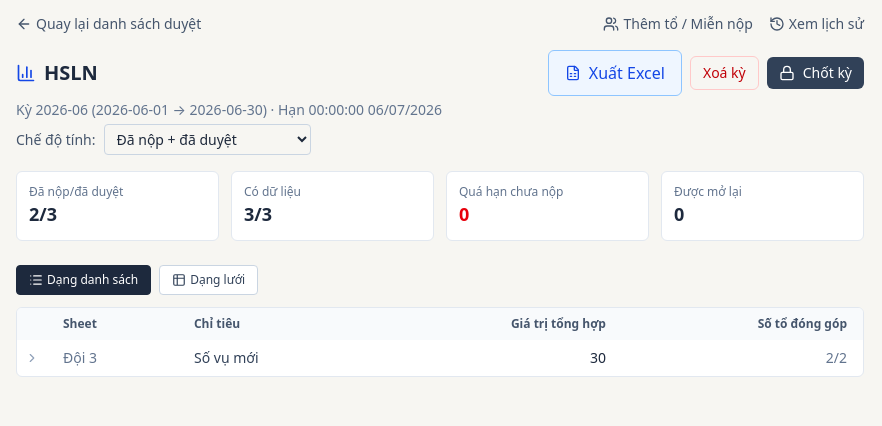
ReportPeriodSummaryPage › any other refusal (nobody approved yet) is shown as an error and is not offered as "close anyway"
The image size is (882, 426).
Click the button with test id "btn-finalize": (815, 73) [767,57,864,89]
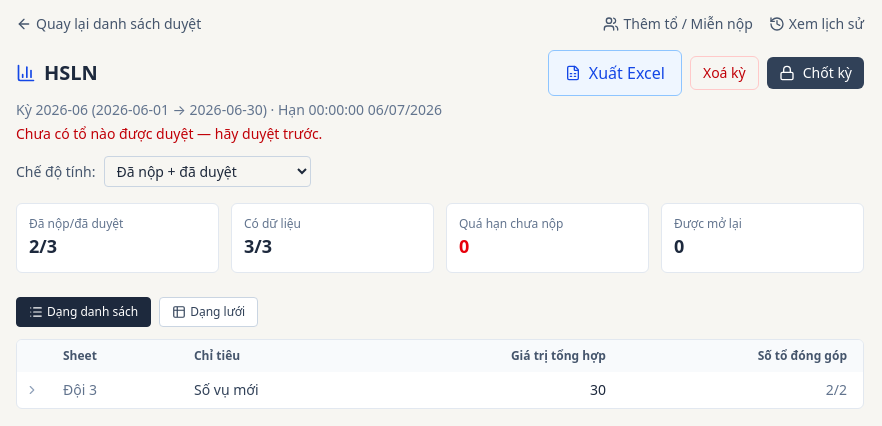
Check: the text with test id "finalize-error" shows "Chưa có tổ nào được duyệt", box [16,124,322,143]
